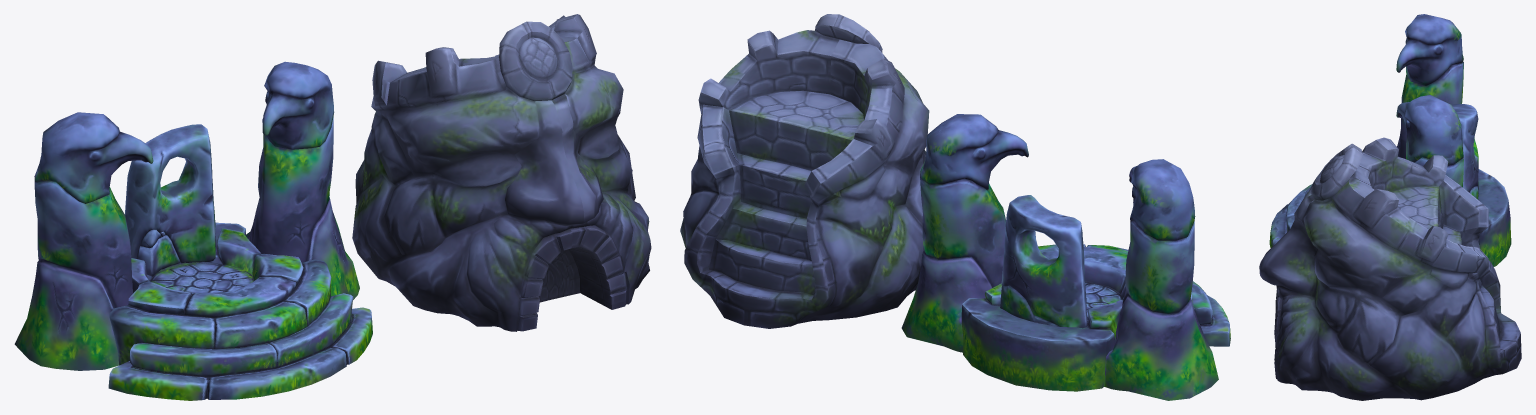
Rendered from Ancient_Rocks.FBX.
3 views of the same model, side by side, from view 1: azimuth 30°, elevation 25°; view 2: azimuth 150°, elevation 25°; view 3: azimuth 270°, elevation 25° (orthographic). The views are drawn at different scales.
Visible parts, largest first — view 1: Ancient_Rocks, Ancient_Face; view 2: Ancient_Face, Ancient_Rocks; view 3: Ancient_Face, Ancient_Rocks.
Part boxes in pixels (<box>): Ancient_Rocks: <box>14,61,372,400</box>; Ancient_Face: <box>352,14,651,331</box>; Ancient_Face: <box>680,14,929,328</box>; Ancient_Rocks: <box>901,114,1230,400</box>; Ancient_Face: <box>1259,137,1521,400</box>; Ancient_Rocks: <box>1269,14,1511,266</box>.
Bounding box in the file's own units: 650 × 284 × 318.
